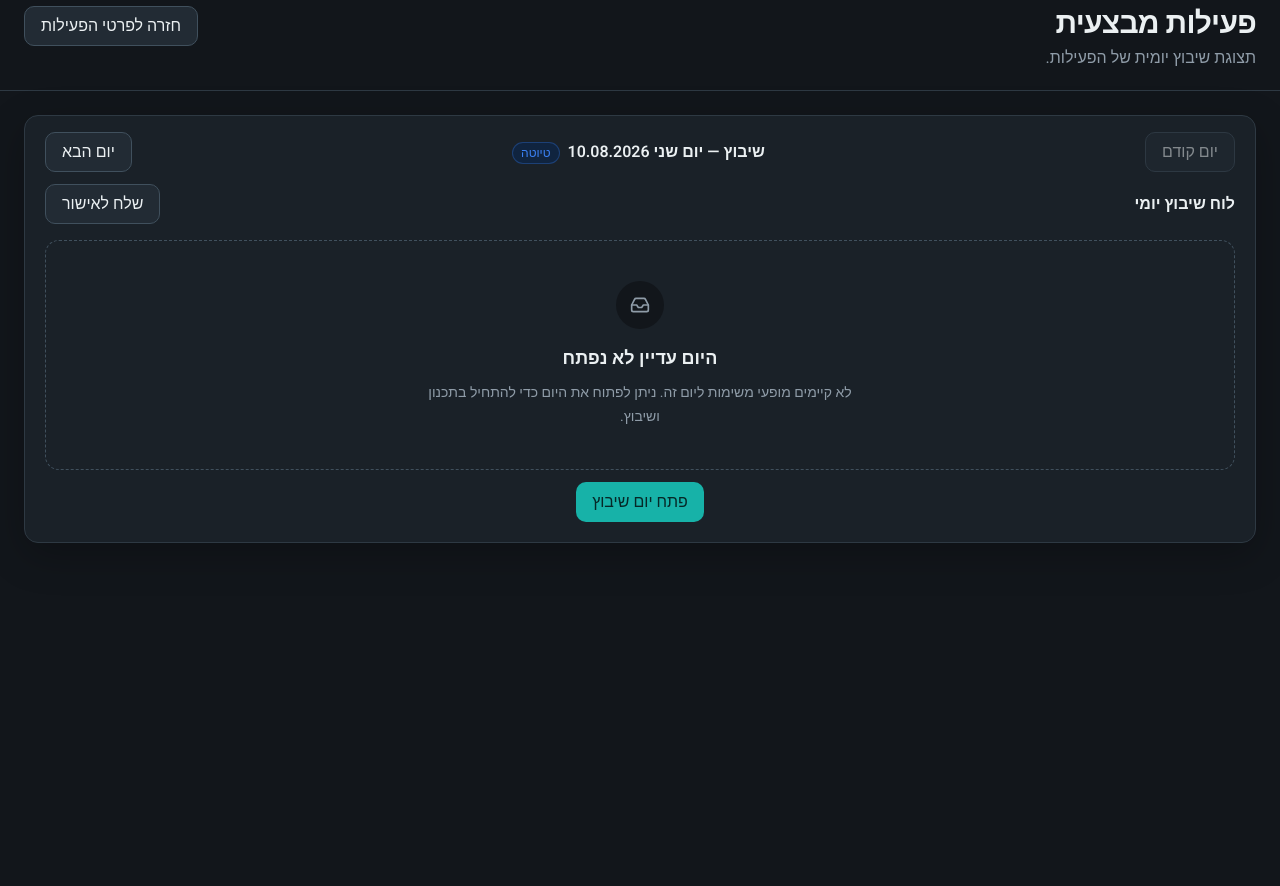
Test case: ActivityPlanningPage › shows available soldiers immediately when opening an empty assignment field
The width and height of the screenshot is (1280, 886).
Click the button "יום הבא": (88, 152) [45,132,132,172]
(page scrolled)
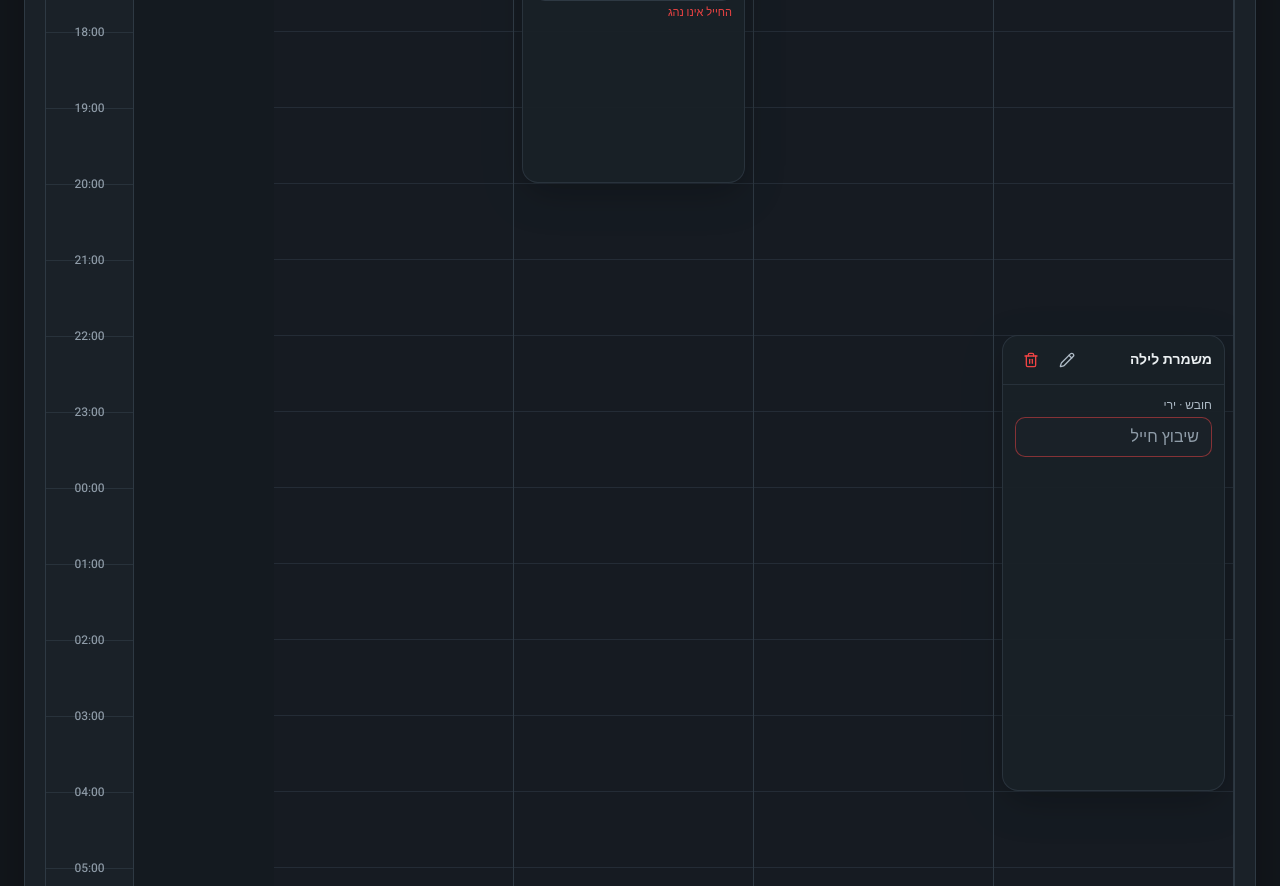
Focus the field labelled "שיבוץ חייל": (1114, 436) [1015,416,1212,456]
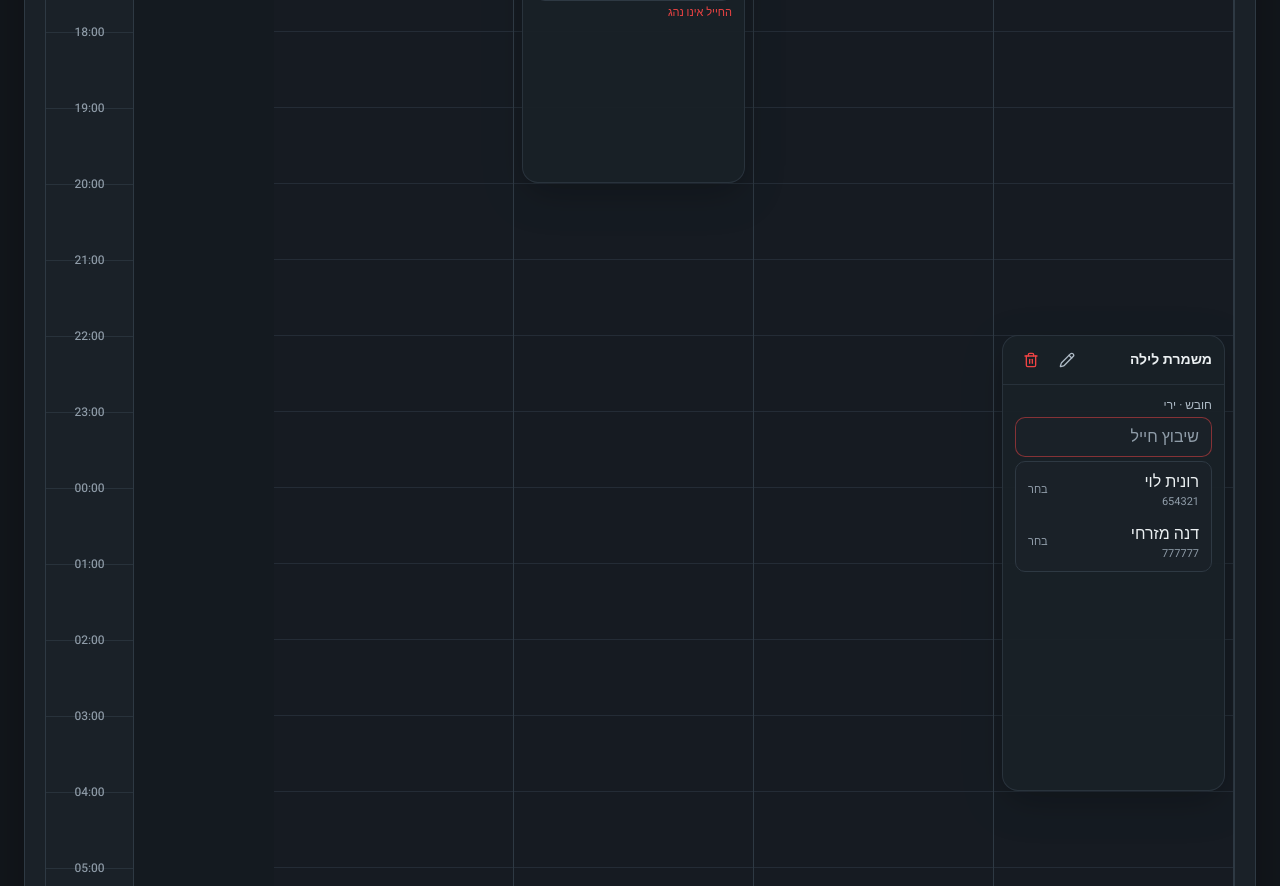
Result: the button "רונית לוי 654321 בחר" is shown at [1020,466,1207,514]
Result: the button "דנה מזרחי 777777 בחר" is shown at [1020,518,1207,566]
